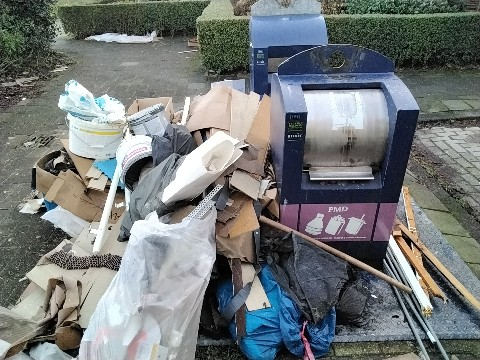Container: (278, 79, 401, 243), (245, 9, 329, 69)
Papier: (19, 153, 97, 220), (191, 90, 271, 140), (221, 200, 260, 257), (139, 94, 185, 126), (234, 152, 267, 193)
Rest: (108, 207, 203, 360), (34, 230, 129, 335), (216, 270, 326, 349), (130, 137, 234, 202), (391, 220, 448, 334), (279, 239, 362, 317), (69, 89, 140, 169), (5, 299, 91, 360)
